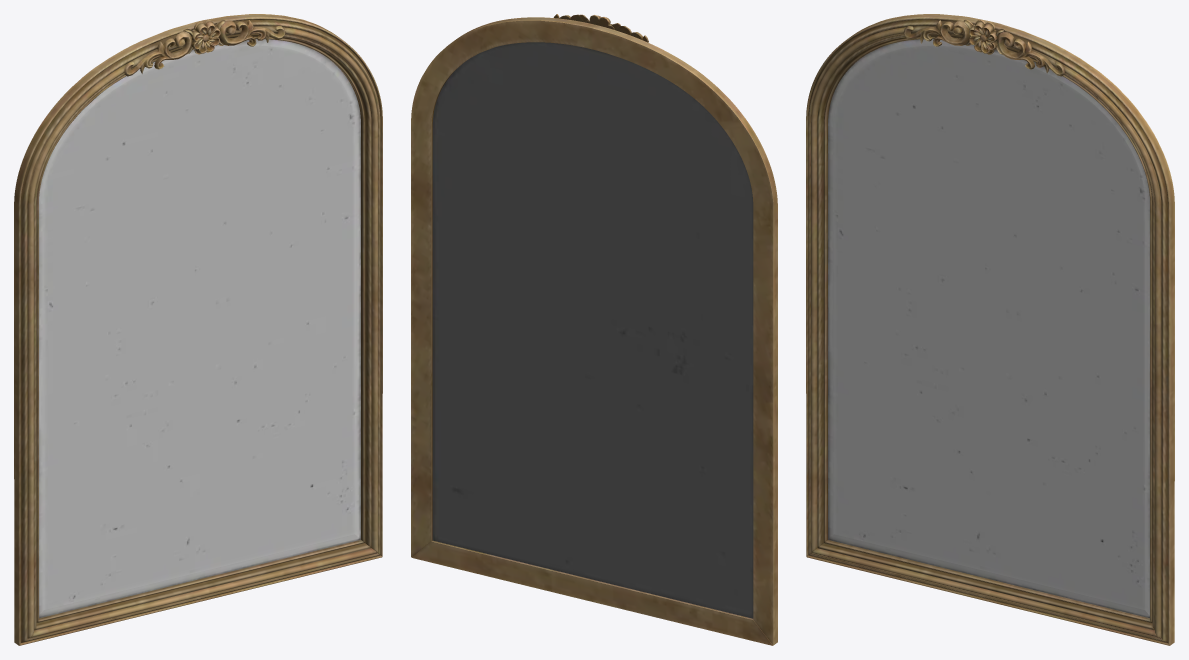
File: ornate_mirror_01.glb
3 renders of one model, left to right at view 1: azimuth 30°, elevation 25°; view 2: azimuth 150°, elevation 25°; view 3: azimuth 330°, elevation 25°, orthographic.
Parts seen in each view (by area): view 1: ornate_mirror_01; view 2: ornate_mirror_01; view 3: ornate_mirror_01.
Part boxes in pixels (<box>): ornate_mirror_01: <box>14,14,382,645</box>; ornate_mirror_01: <box>411,14,777,645</box>; ornate_mirror_01: <box>806,14,1174,645</box>.
Size of the model in its own units: 0.4865 by 0.7442 by 0.026.
Materials: 1 (1 with a texture image).
